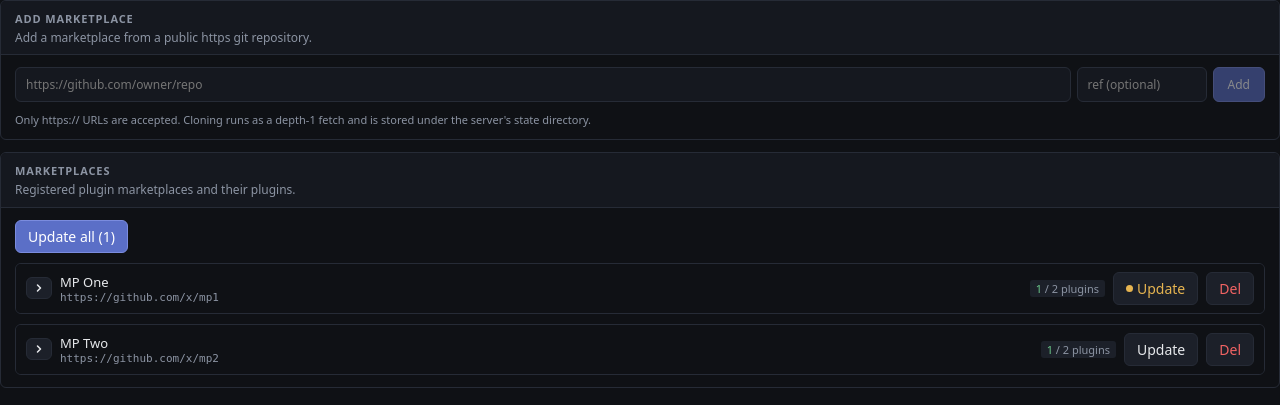
Test: MarketplaceTab Update all › renders Update all (1) and refreshes only the badged marketplace
Click the button "Update all (1)" at (72, 236), box [15,220,128,253]
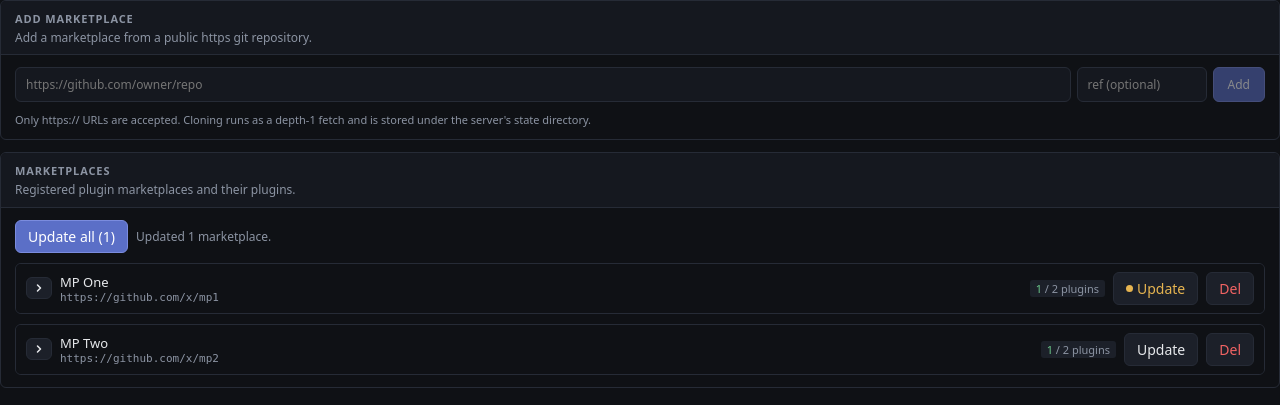
Now the text "Updated 1 marketplace." is shown, box [136,228,271,245]
